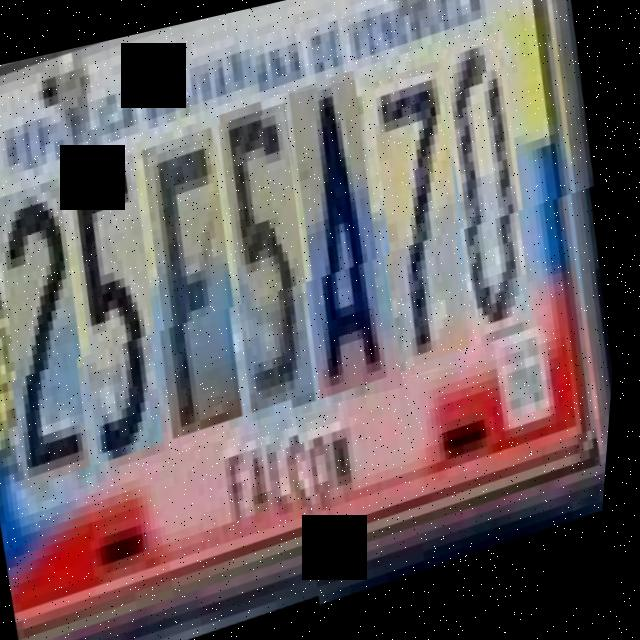0: (421, 41, 572, 347)
2: (0, 189, 130, 496)
5: (199, 109, 358, 425), (48, 165, 204, 472)
7: (348, 70, 509, 378)
A: (265, 79, 427, 404)
F: (122, 142, 283, 450)
